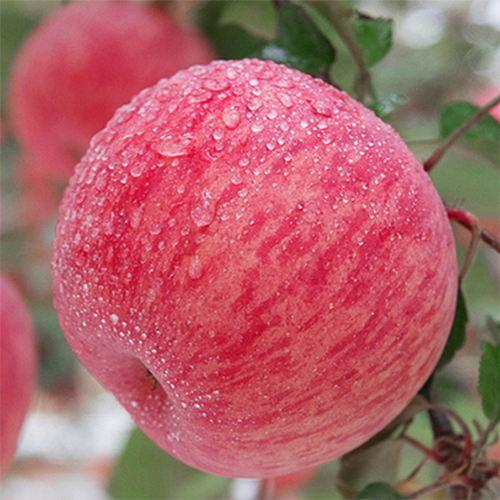apple: (55, 58, 462, 481)
